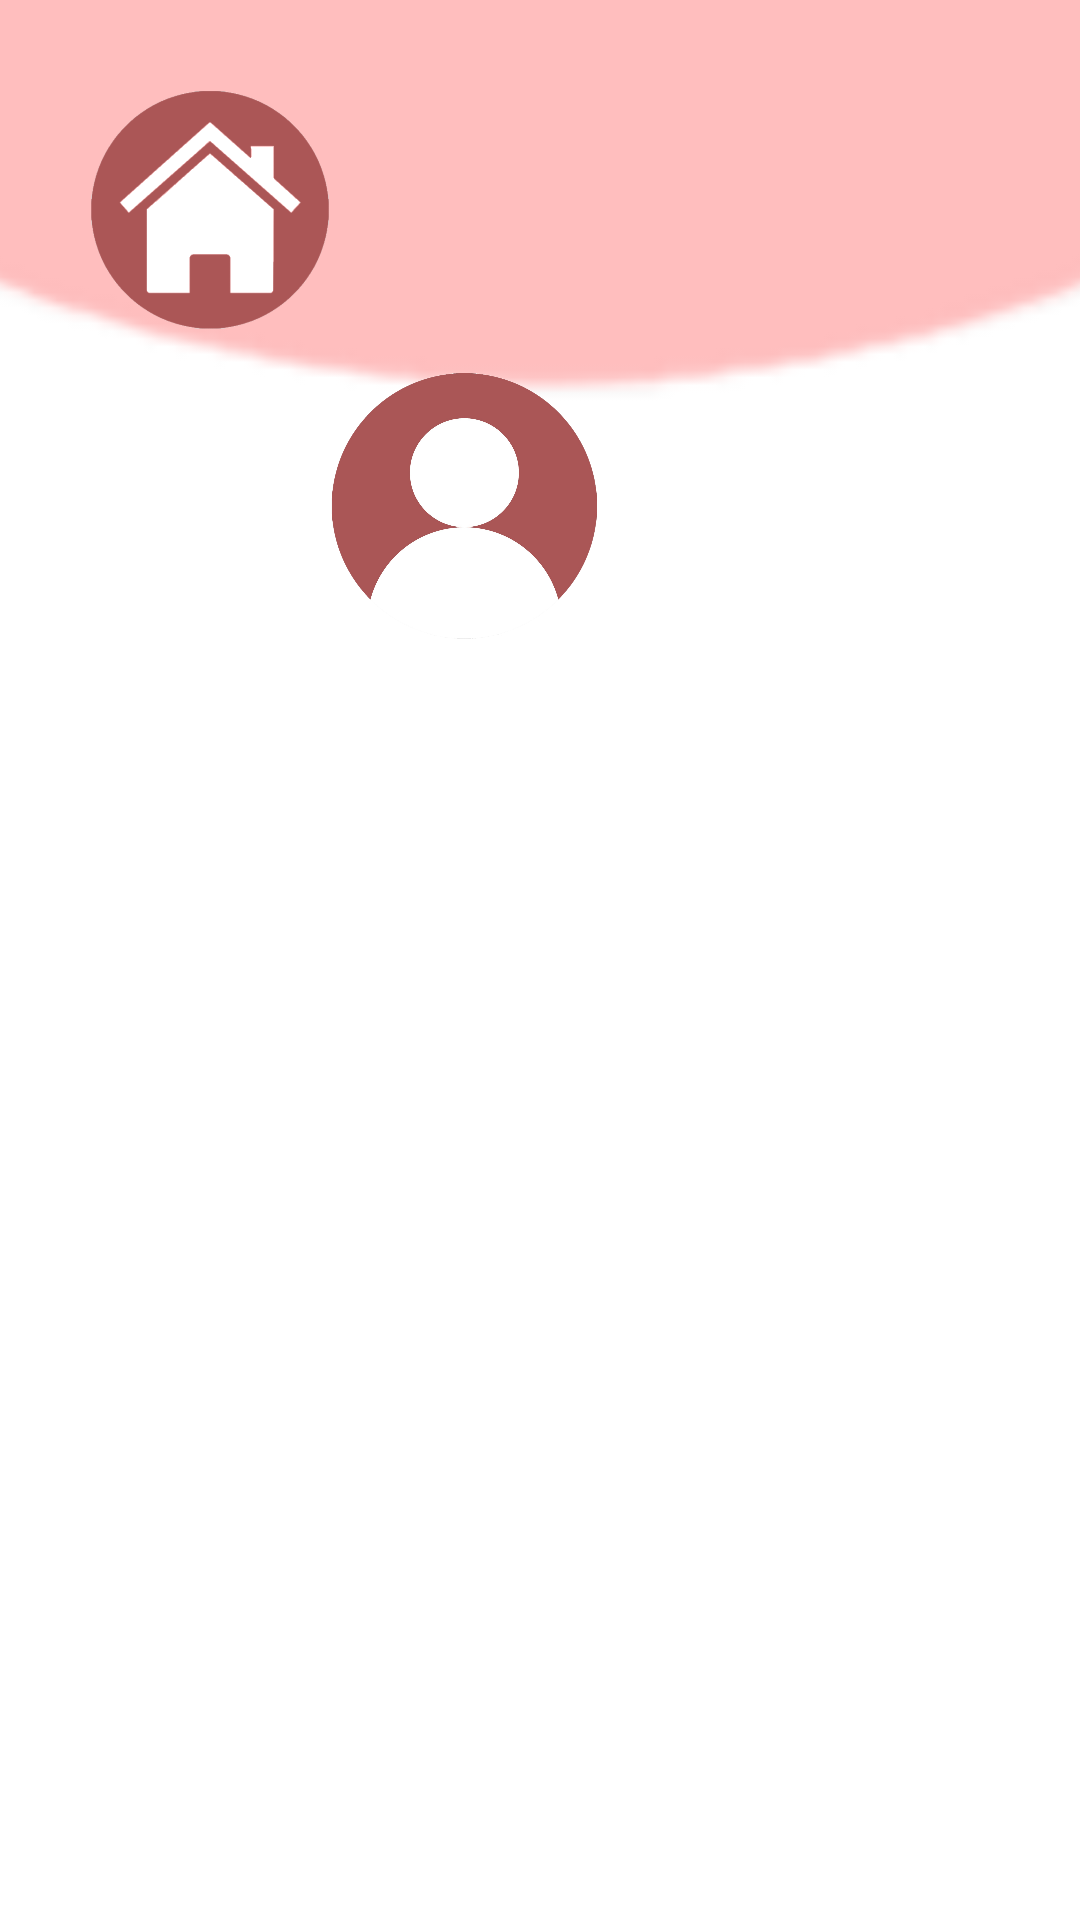

Icon click points for this 1080px x 1920px phone screenshot, format (x=x, y=y):
home: (x=210, y=210)
usuario: (x=465, y=480)
